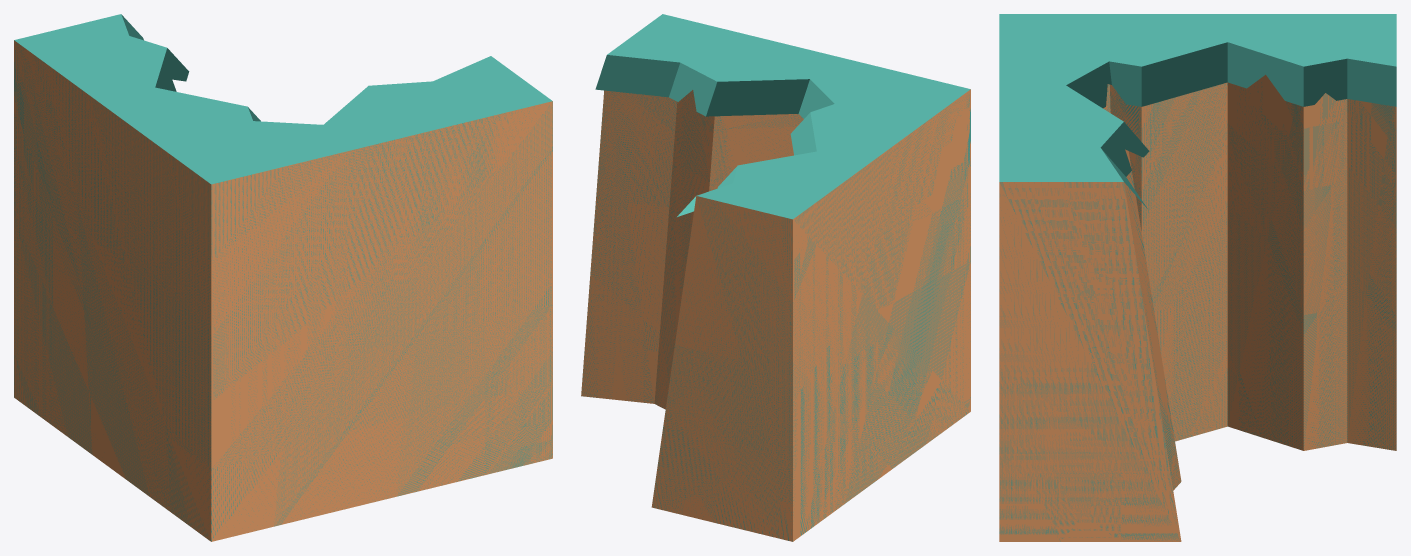
File: cliffBrown_cornerInnerTop.obj
3 views of the same model, side by side, from view 1: azimuth 30°, elevation 25°; view 2: azimuth 150°, elevation 25°; view 3: azimuth 270°, elevation 25° (orthographic). The views are drawn at different scales.
Visible parts, largest first — view 1: cliffBrown_cornerInnerTop; view 2: cliffBrown_cornerInnerTop; view 3: cliffBrown_cornerInnerTop.
Boxes of the visible parts, left/top/right/bottom form: cliffBrown_cornerInnerTop: left=14, top=14, right=552, bottom=541; cliffBrown_cornerInnerTop: left=581, top=14, right=970, bottom=541; cliffBrown_cornerInnerTop: left=999, top=14, right=1396, bottom=541.
Size of the model in its own units: 10 by 10 by 10.
